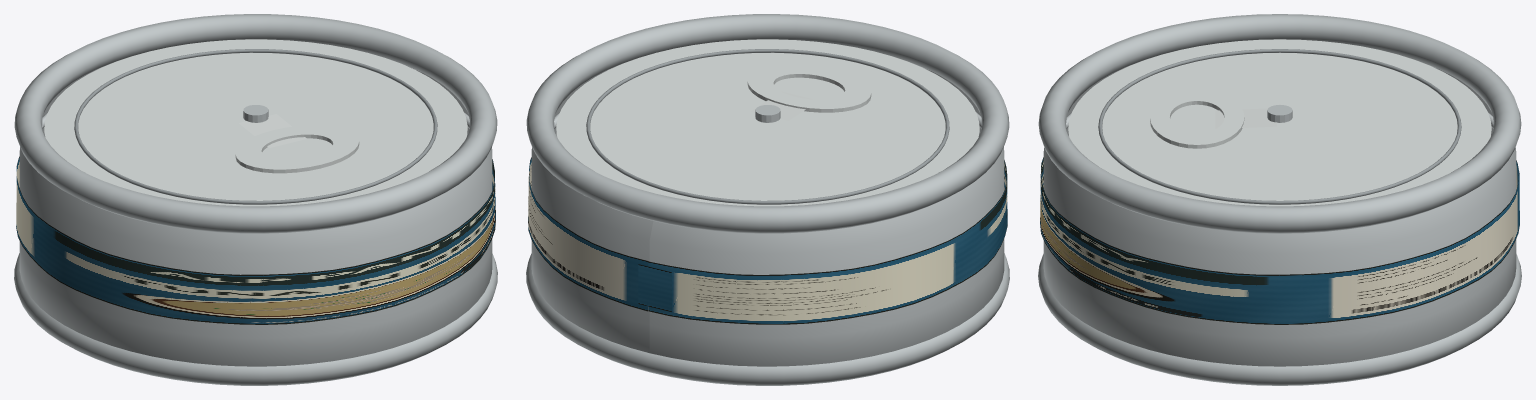
Rendered from alp_pantry_tuna_in_brine_CLOSED.glb.
3 views of the same model, side by side, from view 1: azimuth 30°, elevation 25°; view 2: azimuth 150°, elevation 25°; view 3: azimuth 270°, elevation 25° (orthographic).
Parts seen in each view (by area): view 1: LID | recessed closed disc, TIN | stamped steel structural body, DOUBLE SEAM | top folded edge, PRINT | original 2K UV paper wrap, DOUBLE SEAM | bottom folded edge, LID | circular etched scoring, EASY OPEN | genuine hollow punched ring-pull, RING-PULL | bending strap, RING-PULL | actual hinge rivet; view 2: LID | recessed closed disc, TIN | stamped steel structural body, DOUBLE SEAM | top folded edge, PRINT | original 2K UV paper wrap, DOUBLE SEAM | bottom folded edge, LID | circular etched scoring, EASY OPEN | genuine hollow punched ring-pull, PAPER | overlapping rear label seam, RING-PULL | bending strap, RING-PULL | actual hinge rivet; view 3: LID | recessed closed disc, TIN | stamped steel structural body, DOUBLE SEAM | top folded edge, PRINT | original 2K UV paper wrap, DOUBLE SEAM | bottom folded edge, LID | circular etched scoring, EASY OPEN | genuine hollow punched ring-pull, RING-PULL | bending strap, RING-PULL | actual hinge rivet.
Boxes of the visible parts, x1,y1,x2,y2 form: LID | recessed closed disc: (44, 39, 467, 206); TIN | stamped steel structural body: (19, 66, 492, 366); DOUBLE SEAM | top folded edge: (14, 14, 497, 233); PRINT | original 2K UV paper wrap: (16, 156, 495, 324); DOUBLE SEAM | bottom folded edge: (14, 253, 497, 385); LID | circular etched scoring: (74, 49, 437, 204); EASY OPEN | genuine hollow punched ring-pull: (235, 125, 359, 173); RING-PULL | bending strap: (239, 114, 306, 147); RING-PULL | actual hinge rivet: (243, 105, 268, 122); LID | recessed closed disc: (556, 39, 979, 206); TIN | stamped steel structural body: (531, 66, 1004, 366); DOUBLE SEAM | top folded edge: (526, 14, 1009, 233); PRINT | original 2K UV paper wrap: (528, 157, 1007, 324); DOUBLE SEAM | bottom folded edge: (526, 253, 1009, 385); LID | circular etched scoring: (586, 49, 949, 204); EASY OPEN | genuine hollow punched ring-pull: (747, 64, 871, 112); PAPER | overlapping rear label seam: (638, 264, 671, 311); RING-PULL | bending strap: (751, 91, 812, 120); RING-PULL | actual hinge rivet: (755, 105, 780, 122); LID | recessed closed disc: (1068, 39, 1491, 206); TIN | stamped steel structural body: (1043, 67, 1516, 366); DOUBLE SEAM | top folded edge: (1038, 14, 1521, 233); PRINT | original 2K UV paper wrap: (1040, 157, 1519, 324); DOUBLE SEAM | bottom folded edge: (1038, 254, 1521, 385); LID | circular etched scoring: (1098, 49, 1461, 204); EASY OPEN | genuine hollow punched ring-pull: (1150, 89, 1244, 148); RING-PULL | bending strap: (1215, 108, 1276, 128); RING-PULL | actual hinge rivet: (1267, 105, 1292, 122).
Size of the model in its own units: 0.088 by 0.0371 by 0.088.
5 materials, 1 textured.
